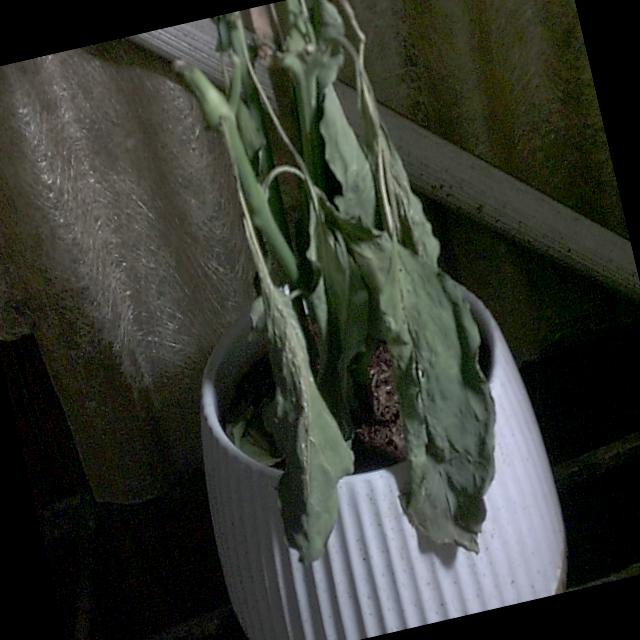Leaf: (342, 230, 528, 568), (227, 273, 376, 571)
